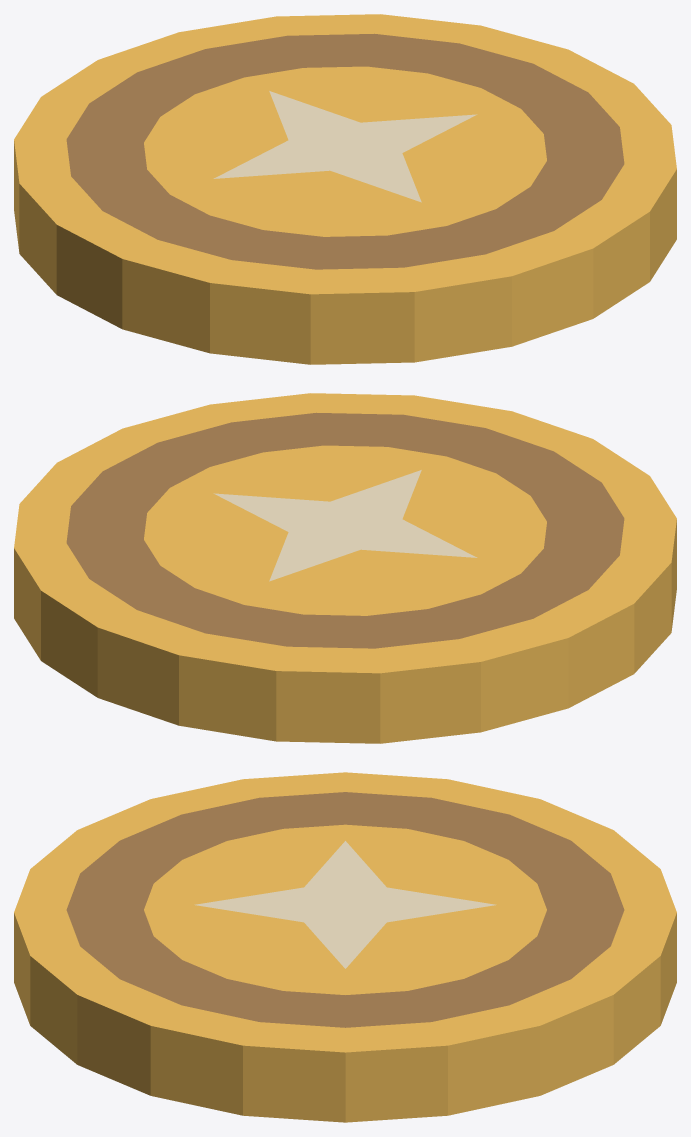
Rendered from moeda_chao.glb.
3 renders of one model, top to bottom at view 1: azimuth 30°, elevation 25°; view 2: azimuth 150°, elevation 25°; view 3: azimuth 270°, elevation 25°, orthographic.
Visible parts, largest first — view 1: neve_moeda_chao; view 2: neve_moeda_chao; view 3: neve_moeda_chao.
Part boxes in pixels (box(x1,y1,x2,y2)): neve_moeda_chao: box(14, 14, 676, 364); neve_moeda_chao: box(14, 393, 676, 743); neve_moeda_chao: box(14, 772, 676, 1122).
Bounding box in the file's own units: 0.24 × 0.031 × 0.24.
